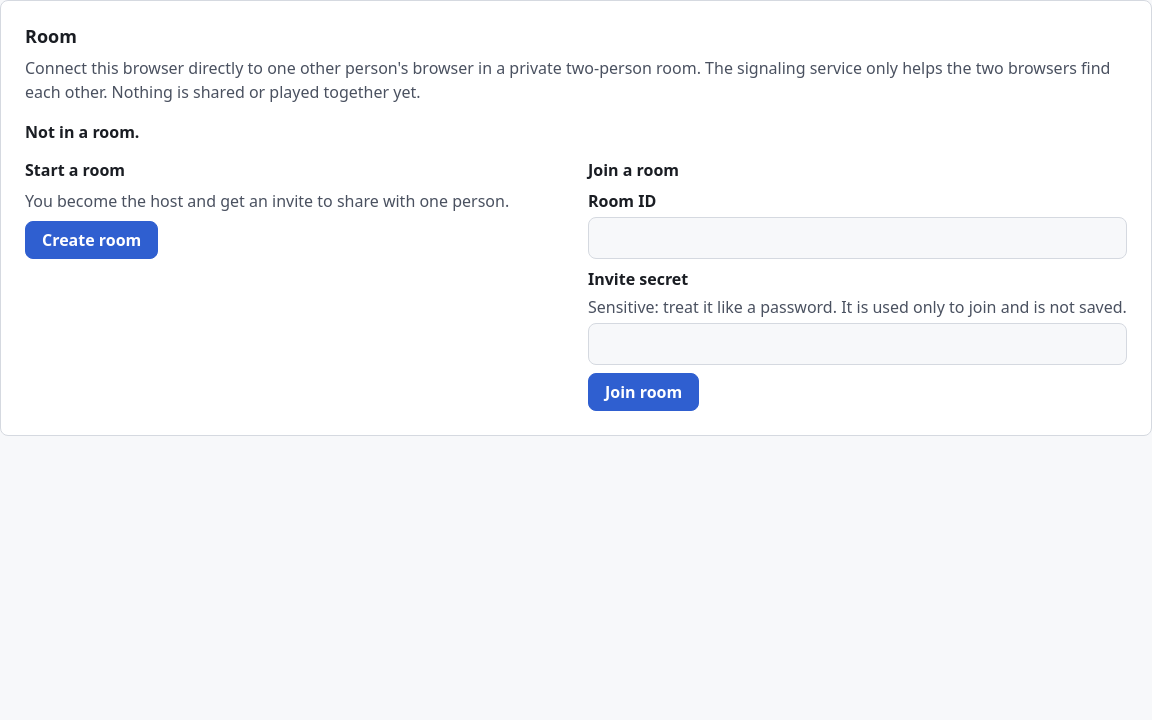
Test case: RoomPanel › reports a copy failure with a manual fallback
This screenshot has width=1152, height=720.
Click the button "Create room": (92, 240) [25, 221, 158, 259]
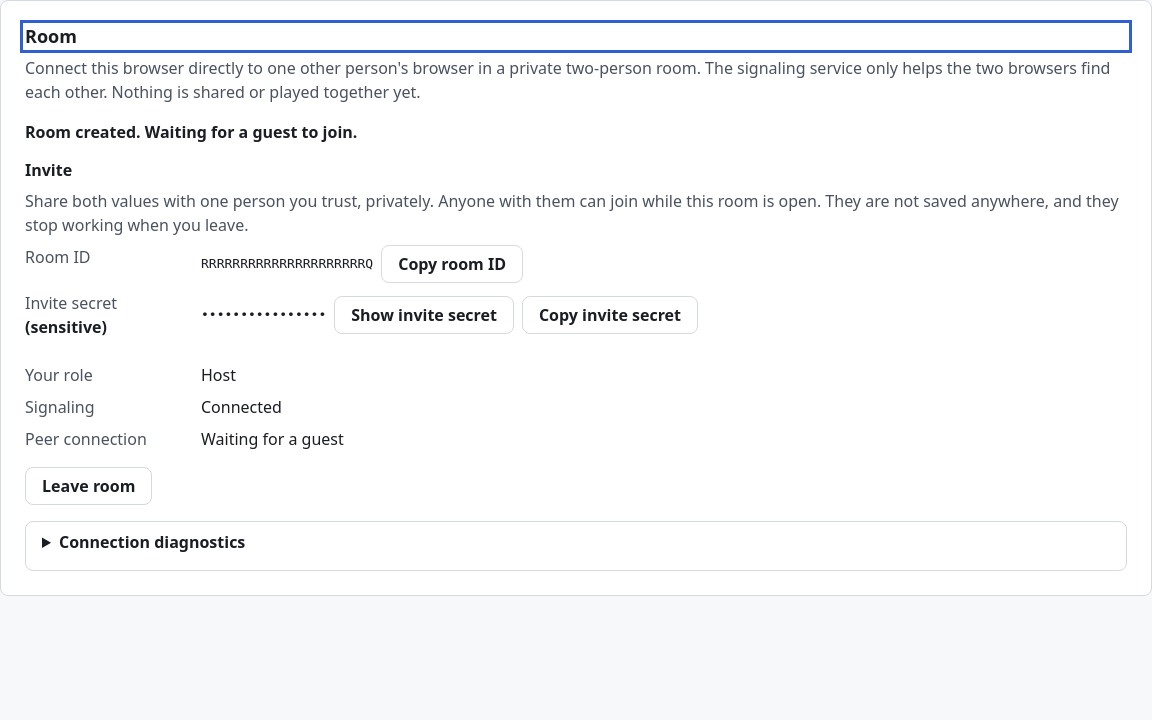
Click the button "Copy room ID": (452, 264) [381, 245, 523, 283]
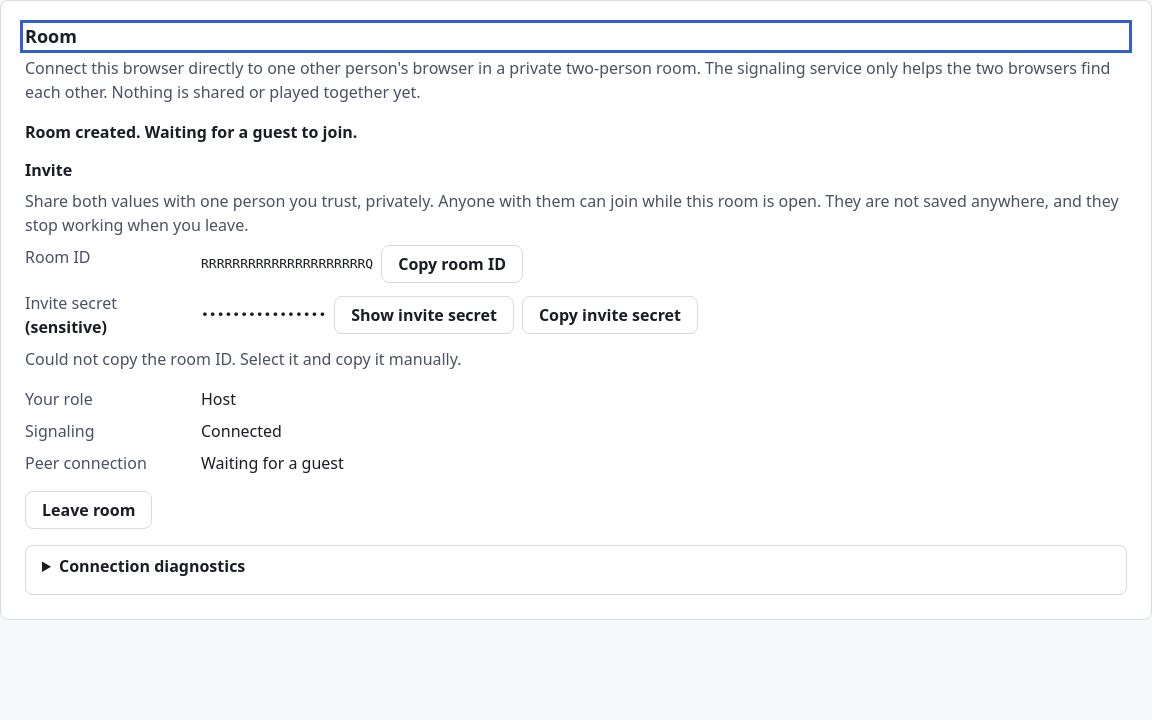
Now the element "Invite" shows "Could not copy the room ID.", box [25, 348, 462, 370]
